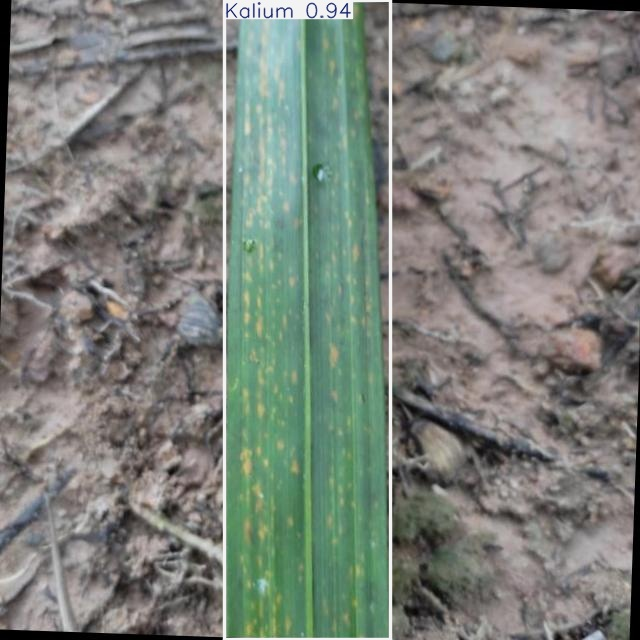Kalium: (224, 1, 390, 640)
